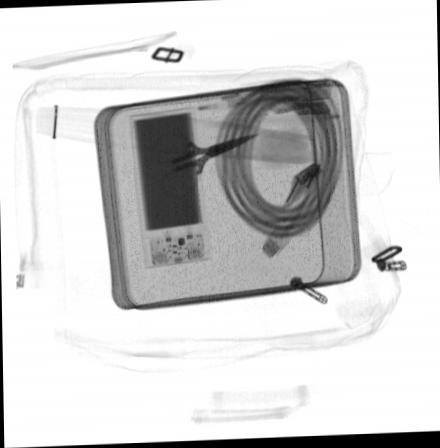Powerbank: (128, 106, 214, 269)
Scissors: (148, 130, 262, 201)
